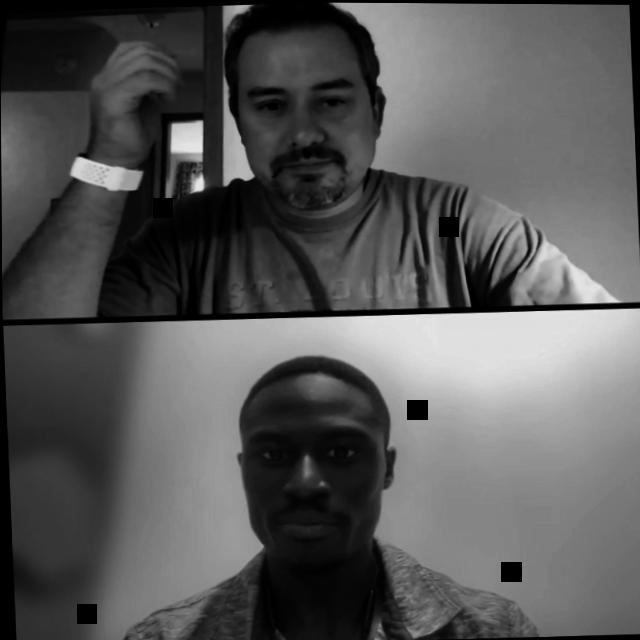NO-Mask: (231, 351, 403, 577), (219, 1, 391, 212)
